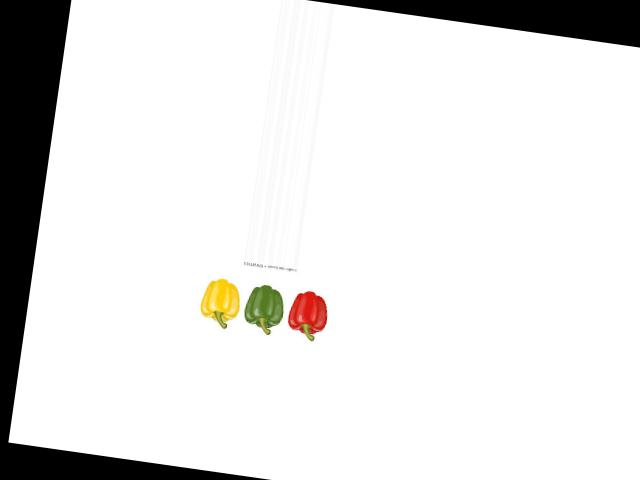bell_pepper: (196, 272, 246, 329)
